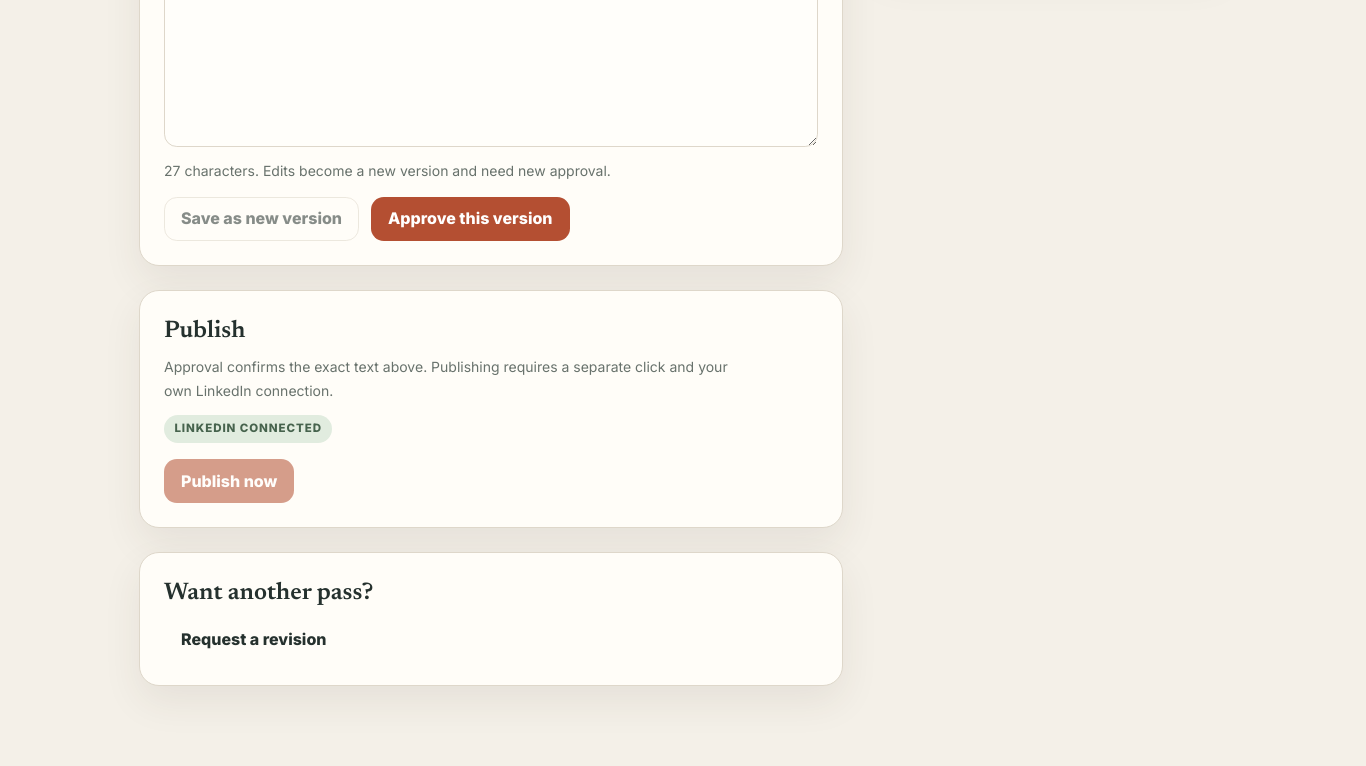
Test: sends the owner to Settings when a revision is refused for missing Claude settings
(page scrolled)
Click the button "Request a revision".
click(254, 639)  # box [164,617,344,661]
(page scrolled)
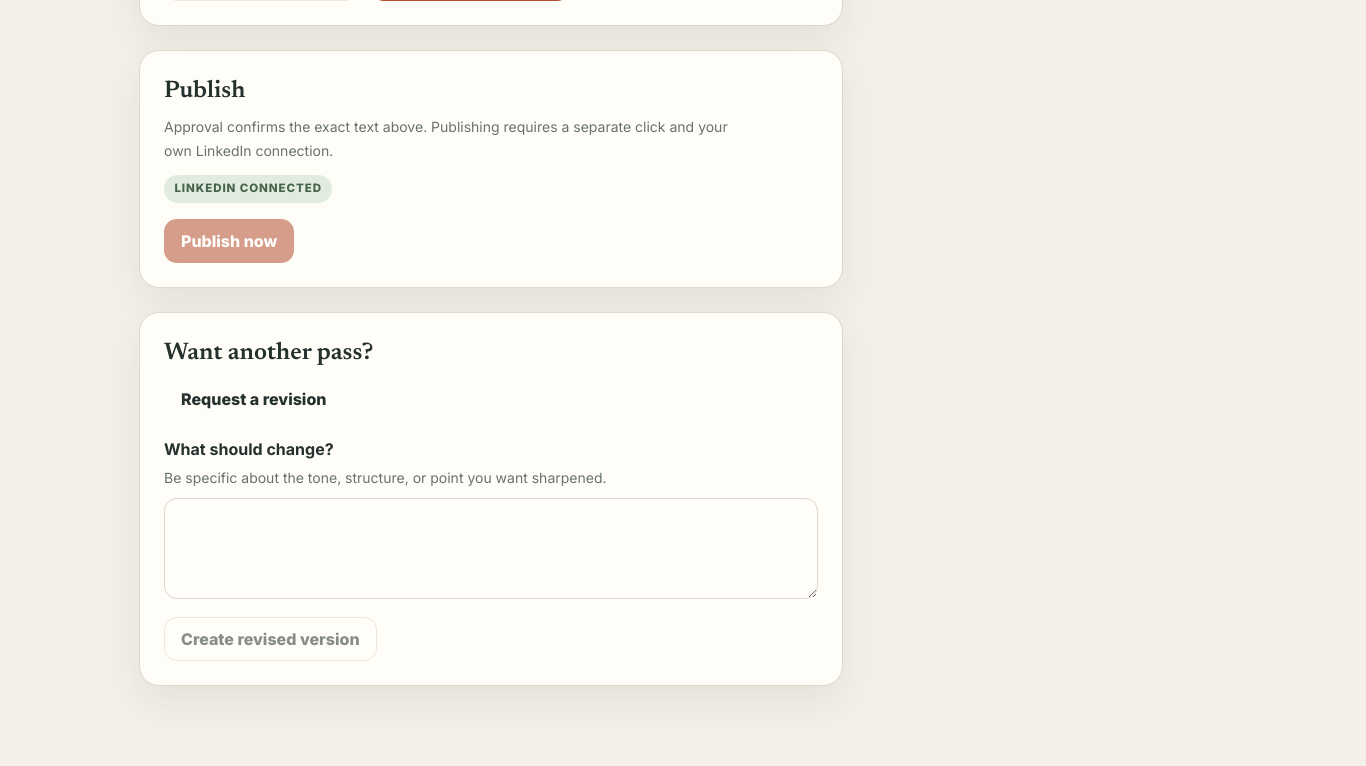
Type "Sharpen the opening" into the text box labelled "What should change?".
click(491, 549); type("Sharpen the opening")  # box [164,498,818,599]
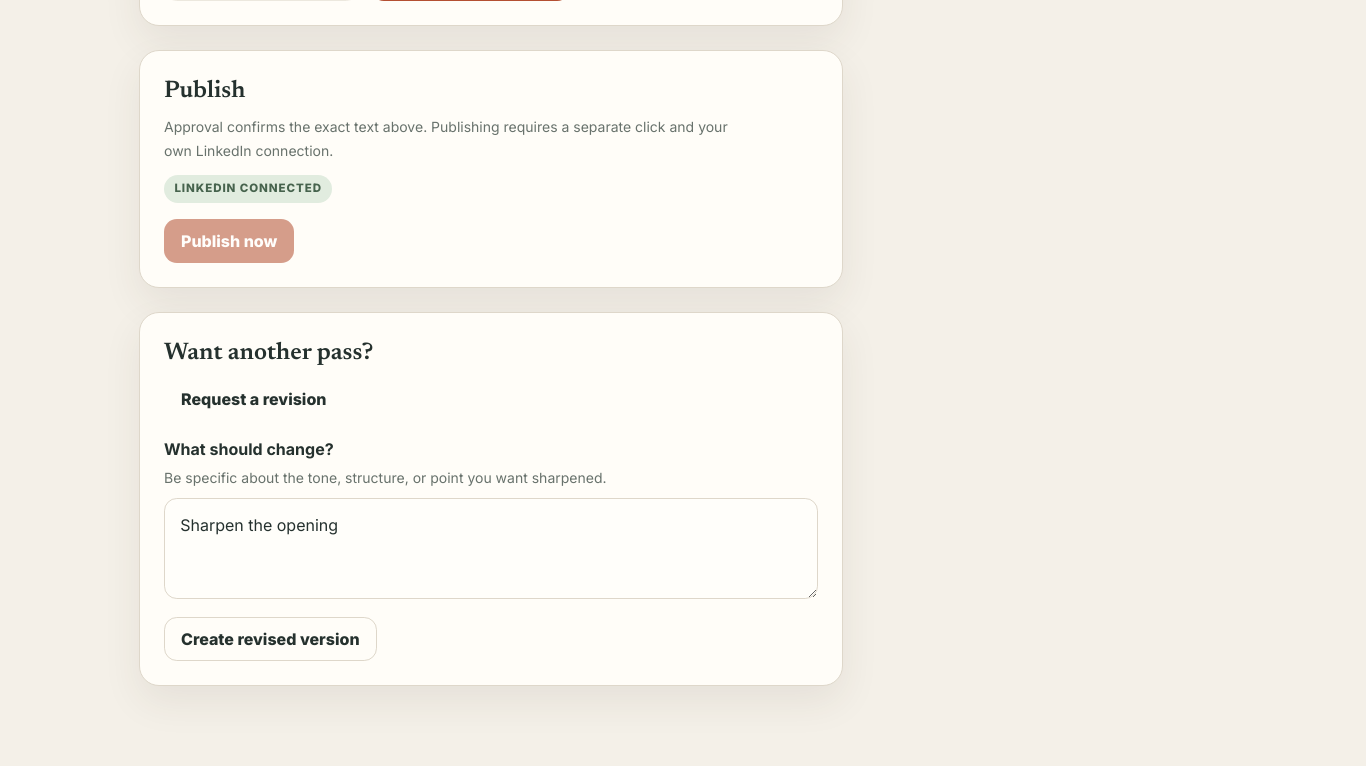
Click the button "Create revised version".
click(270, 639)  # box [164,617,377,661]
(page scrolled)
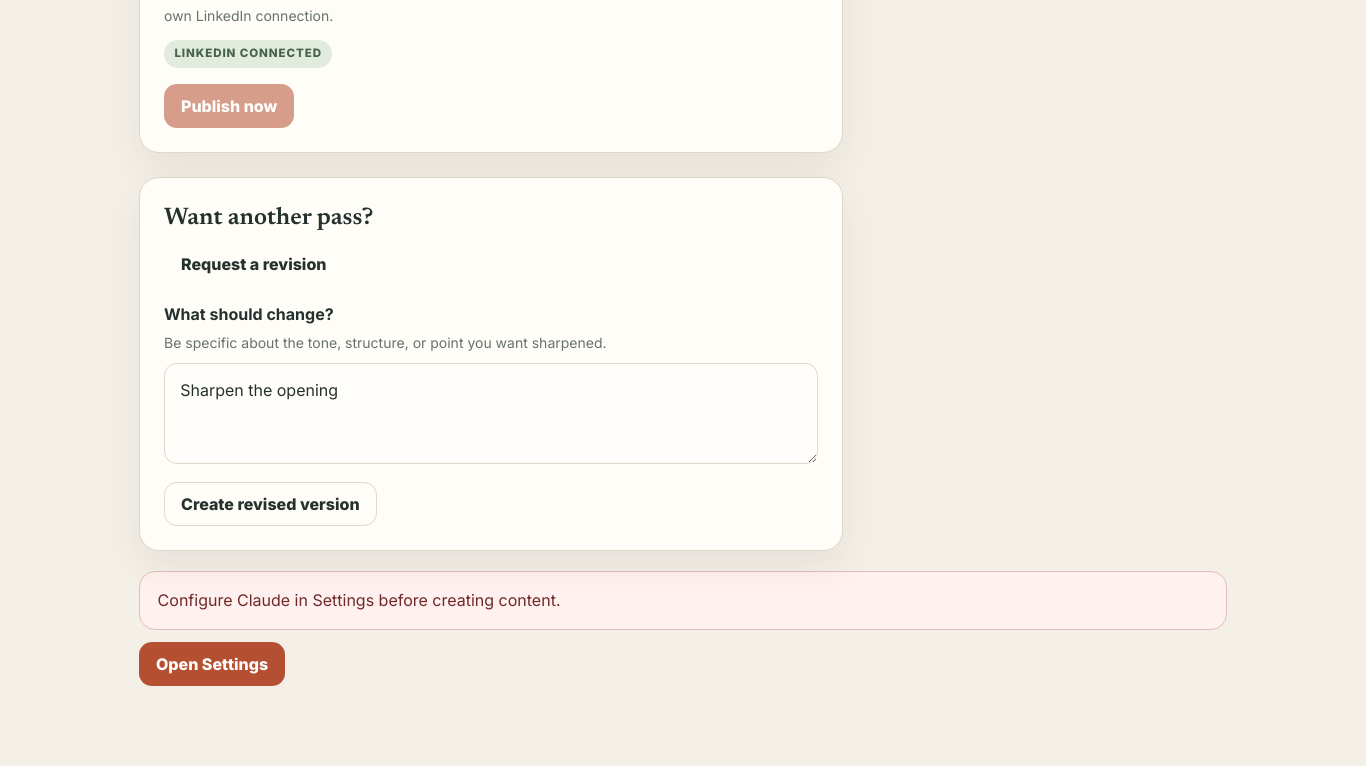
Now the text "Configure Claude in Settings before creating content." is shown, box [139,571,1227,630]
